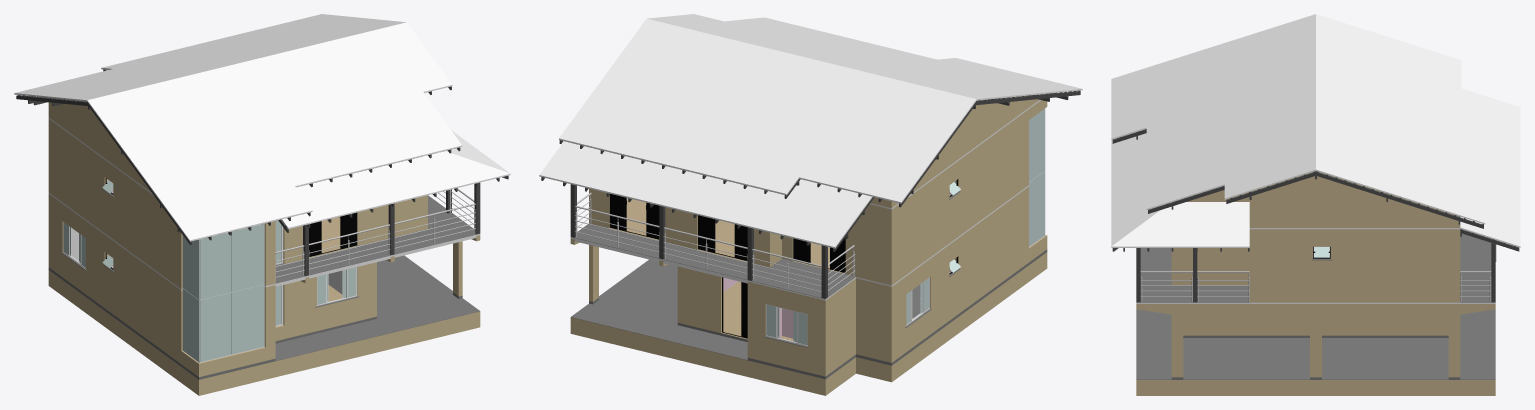
File: House2.FBX
3 renders of one model, left to right at view 1: azimuth 30°, elevation 25°; view 2: azimuth 150°, elevation 25°; view 3: azimuth 270°, elevation 25°, orthographic. The views are drawn at different scales.
Parts seen in each view (by area): view 1: Layer:--TELHADO NIVEL 2 TELHAS; view 2: Layer:--TELHADO NIVEL 2 TELHAS; view 3: Layer:--TELHADO NIVEL 2 TELHAS.
Part boxes in pixels (box(x1,y1,x2,y2)): Layer:--TELHADO NIVEL 2 TELHAS: box(14, 14, 510, 395); Layer:--TELHADO NIVEL 2 TELHAS: box(539, 14, 1082, 395); Layer:--TELHADO NIVEL 2 TELHAS: box(1111, 14, 1520, 395).
Size of the model in its own units: 494 by 346 by 547.
